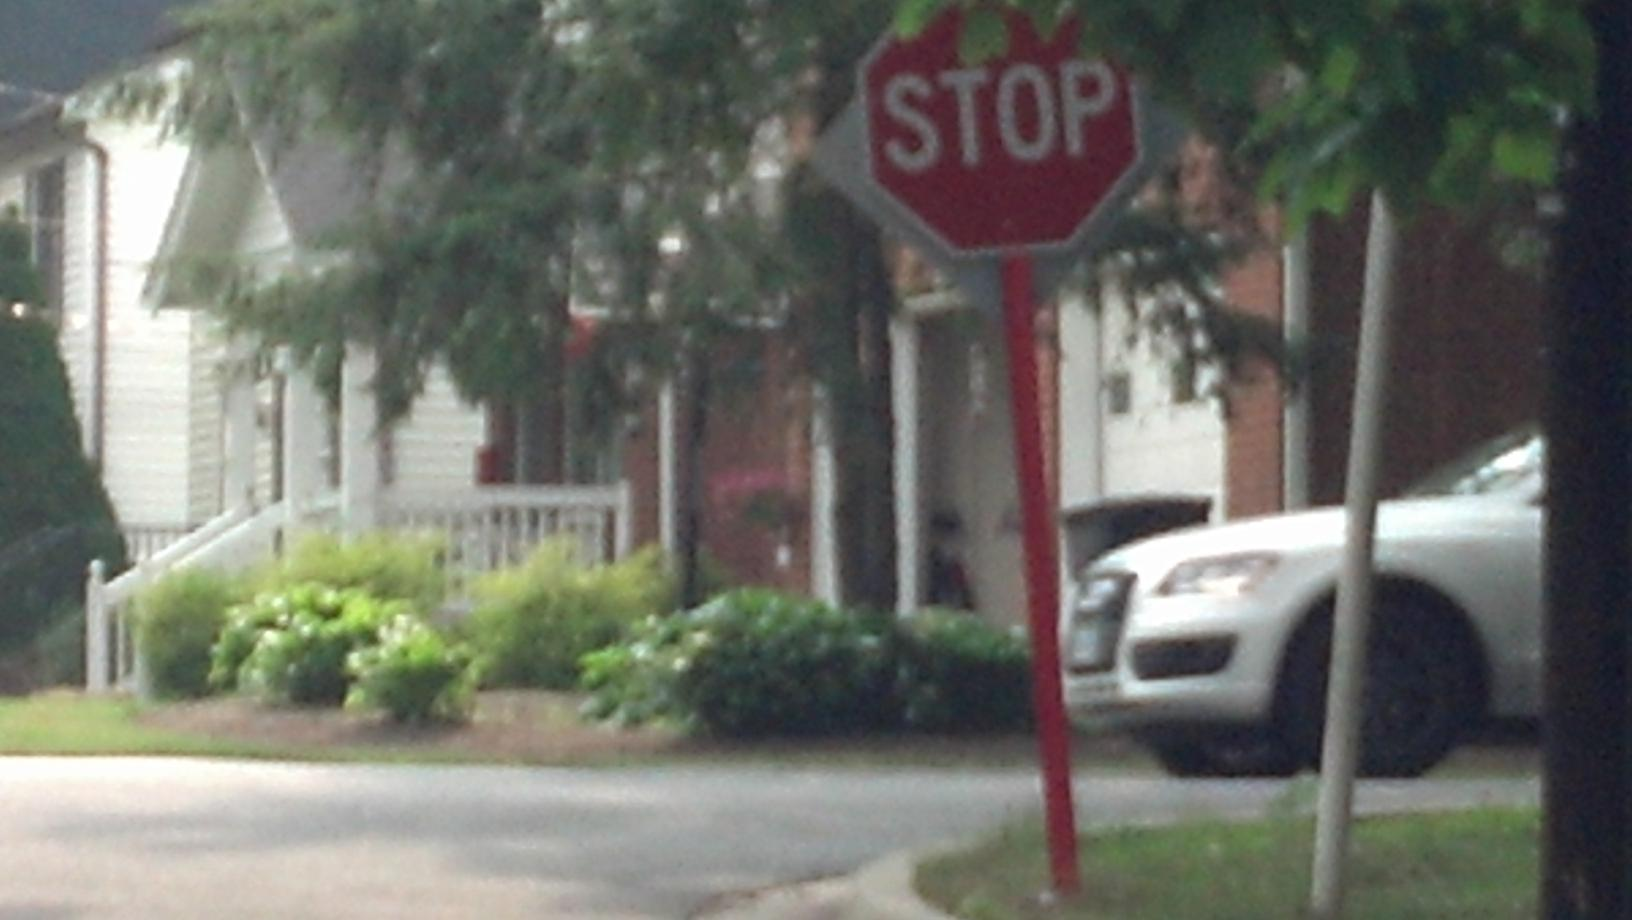car: (1058, 385, 1563, 765)
stop: (866, 13, 1141, 255)
